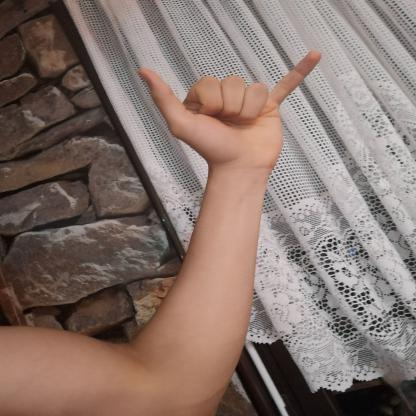YA: (127, 40, 335, 180)
